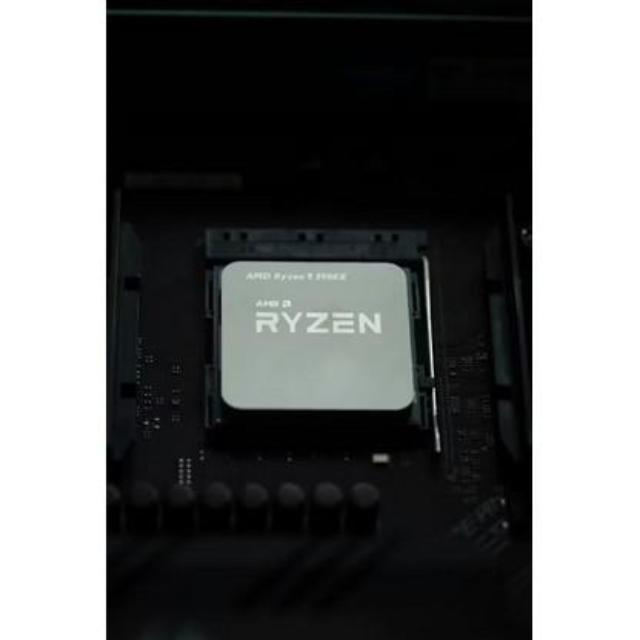CPU: (218, 253, 422, 422)
